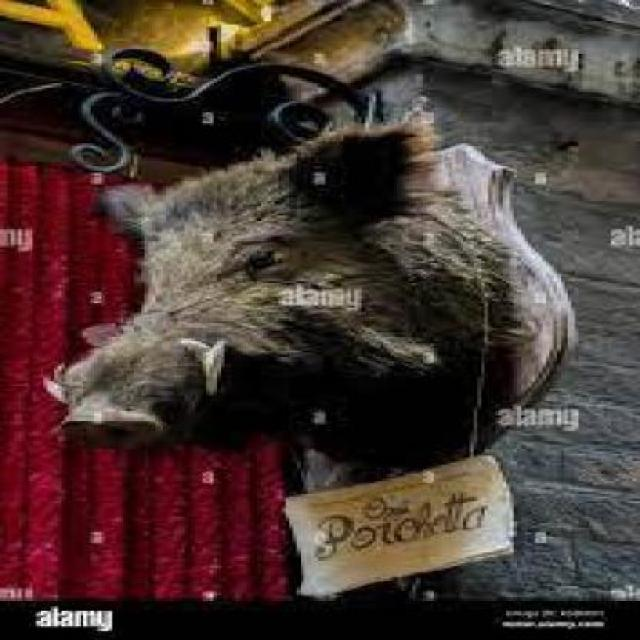wildboar: (38, 119, 536, 463)
